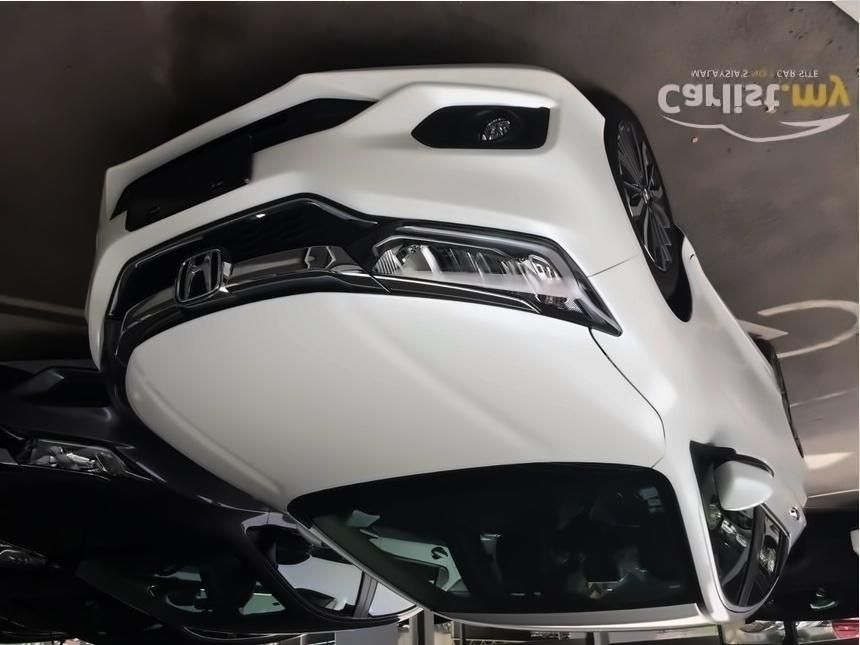Car hood: (124, 285, 684, 515)
Driver-s door - -F-R-: (667, 222, 787, 629)
Fender - -F-R-: (581, 156, 707, 474)
Front bumper: (53, 63, 651, 331)
Headlight - -R-: (362, 222, 623, 337)
Passenger-s door - -R-R-: (727, 347, 815, 626)
Side bumper - -R-: (676, 230, 792, 419)
Side mirror - -R-: (699, 453, 778, 524)
